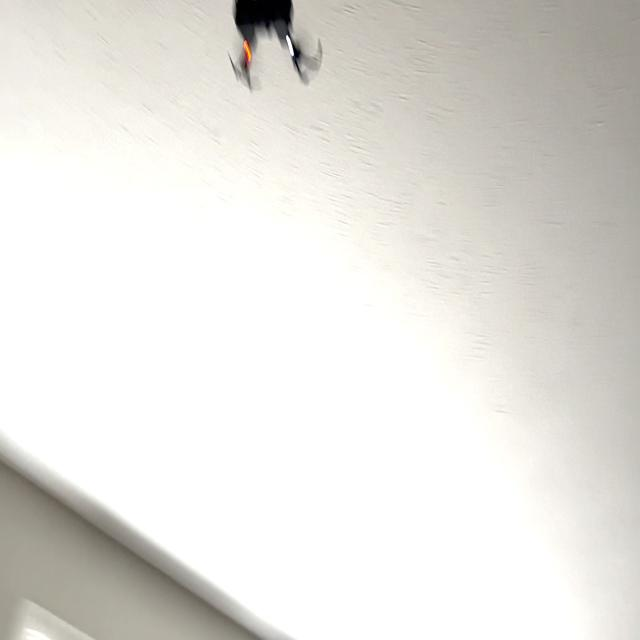drone: (216, 0, 338, 105)
